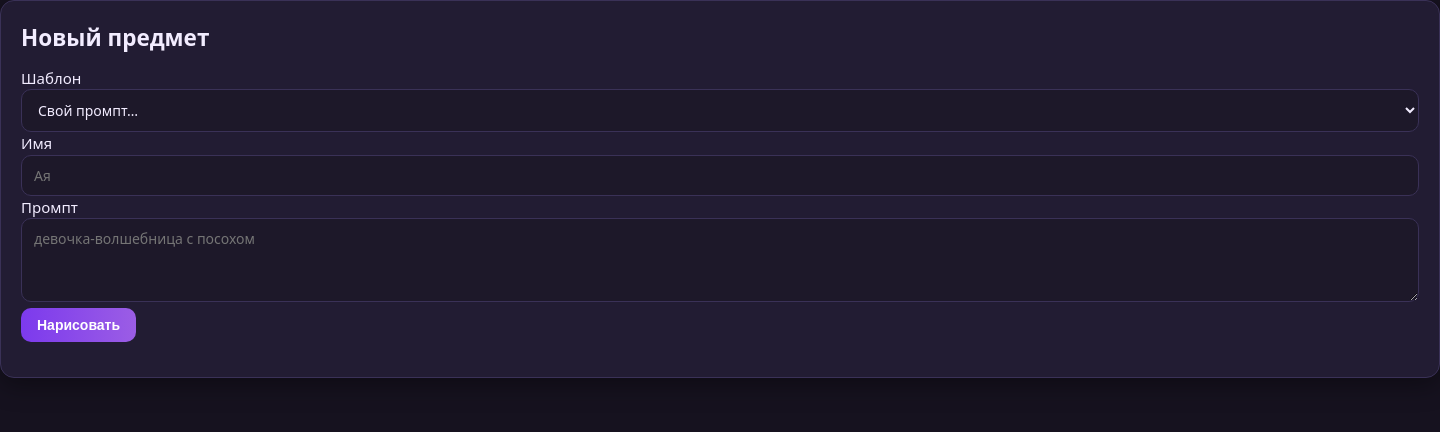
Test: EntityGenerator (new character/item/location by prompt) › requires name and prompt (no empty generation)
What coordinates should you click on to do the following:
click the button "Нарисовать"
I would click on:
 (79, 325)
Its box is [21,308,136,342].
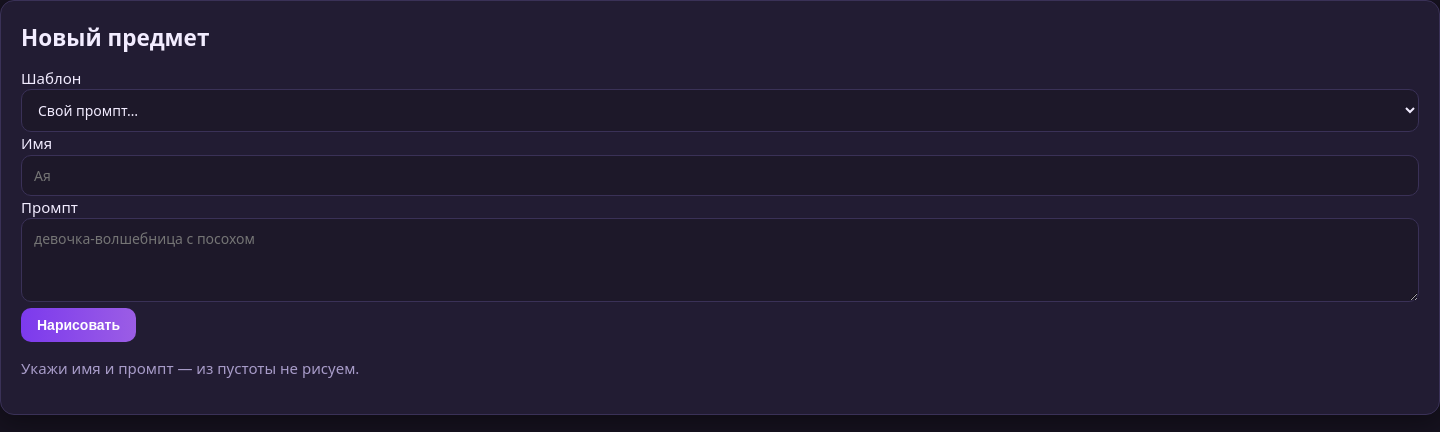
Expected: the text "Укажи имя и промпт — из пустоты не рисуем." is shown, [21,358,359,378]
